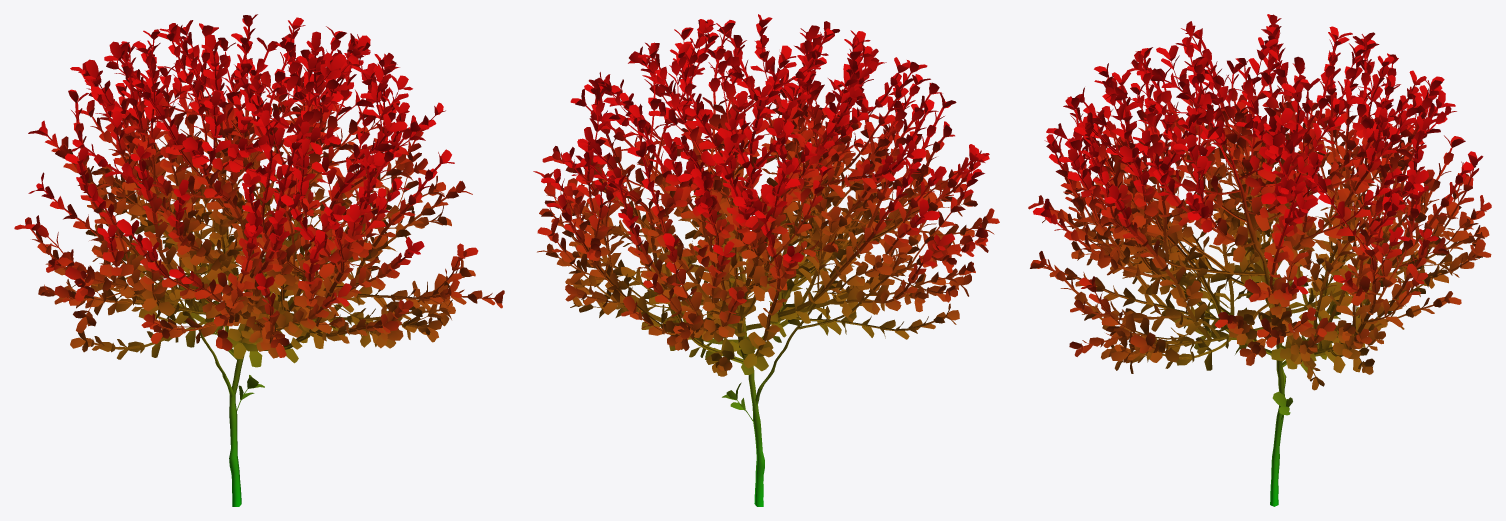
File: Var3_LOD2.fbx
3 renders of one model, left to right at view 1: azimuth 30°, elevation 25°; view 2: azimuth 150°, elevation 25°; view 3: azimuth 270°, elevation 25°, orthographic. The views are drawn at different scales.
Parts seen in each view (by area): view 1: _x0nq_Var3_LOD2; view 2: _x0nq_Var3_LOD2; view 3: _x0nq_Var3_LOD2.
Part boxes in pixels (box(x1,y1,x2,y2)): _x0nq_Var3_LOD2: box(14, 14, 504, 506); _x0nq_Var3_LOD2: box(533, 14, 999, 506); _x0nq_Var3_LOD2: box(1028, 14, 1491, 506).
Bounding box in the file's own units: 71.53 × 78.56 × 70.58.
